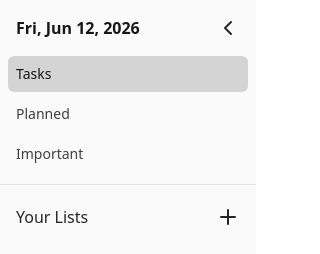
Test: Sidebar.svelte › closes when chevron is clicked
What coordinates should you click on to do the following:
click the button named "Toggle Sidebar"
I would click on:
 (228, 28)
Its box is [208, 8, 248, 48].
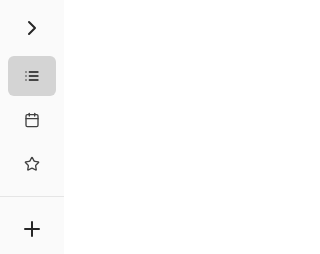
Expected: the text "Tasks" is gone
Expected: the text "Important" is gone
Expected: the text "Your Lists" is gone
